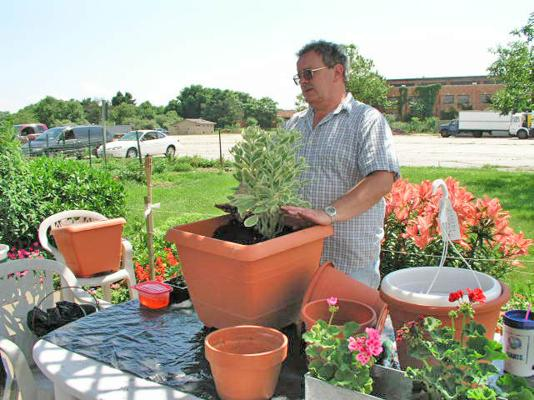person: (273, 40, 399, 296)
